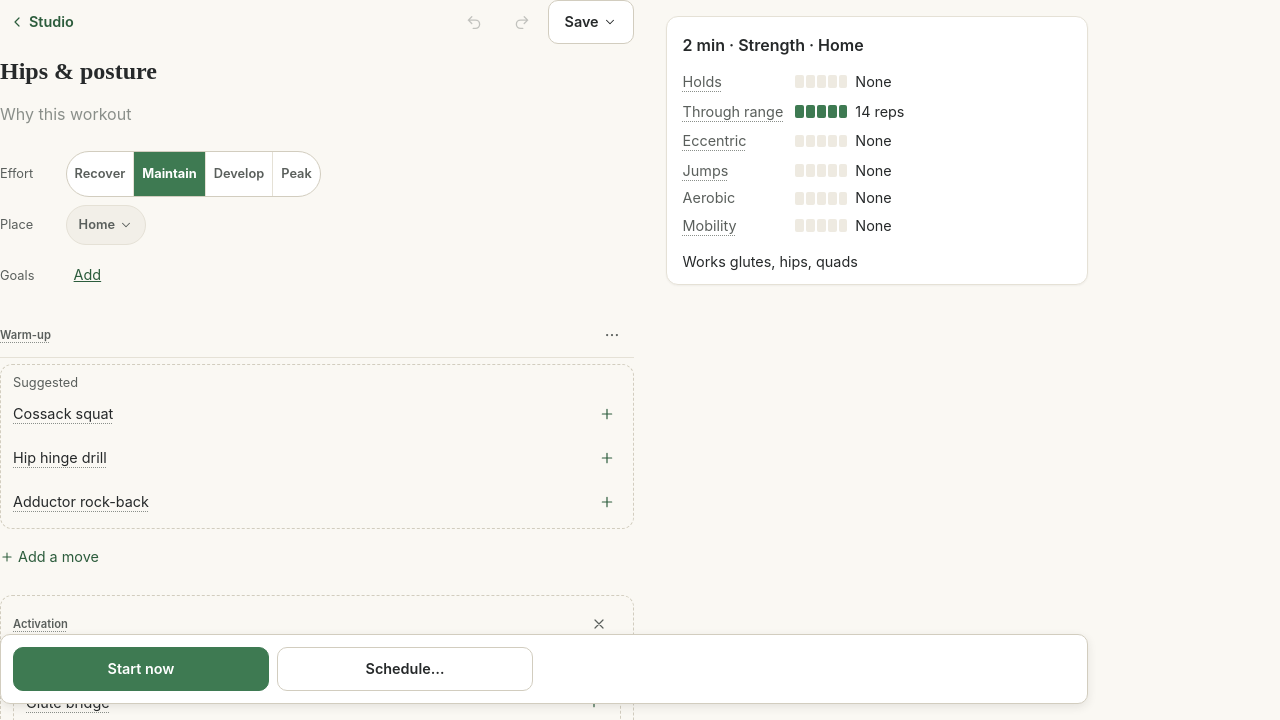
Scenario: Schedule › Later today needs the workout to finish by the athlete's latest evening finish: too long for the slot, it isn't offered
Click the button "Schedule…": (405, 669) [277, 647, 533, 691]
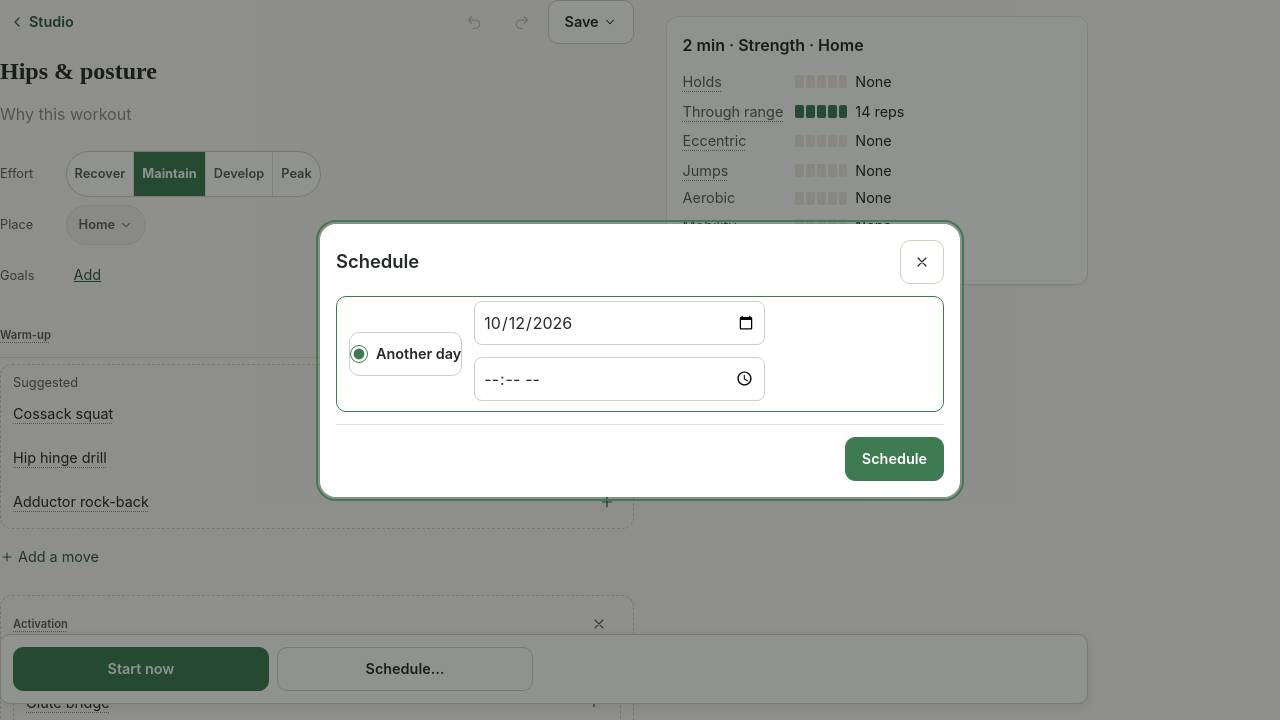
Expected: the radio button labelled "Another day" is checked, [350, 344, 368, 362]
